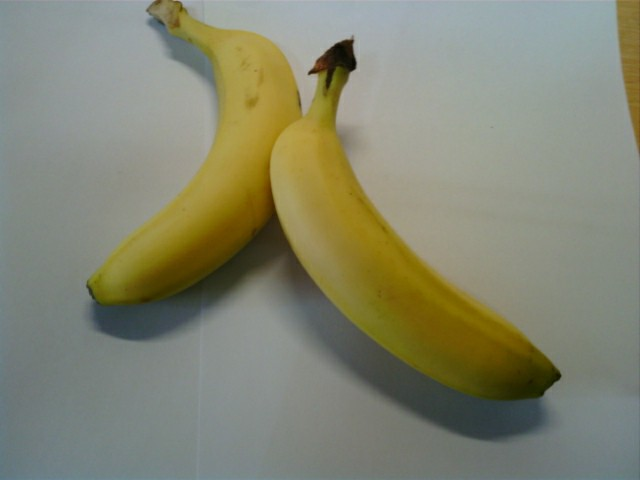fresh_banana: (274, 113, 560, 403), (82, 22, 297, 305)
